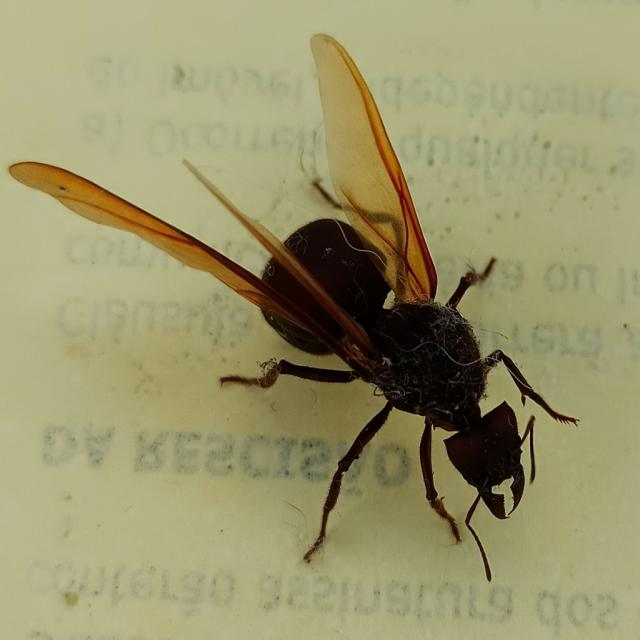Alive-Female-Alate: (8, 32, 582, 583)
